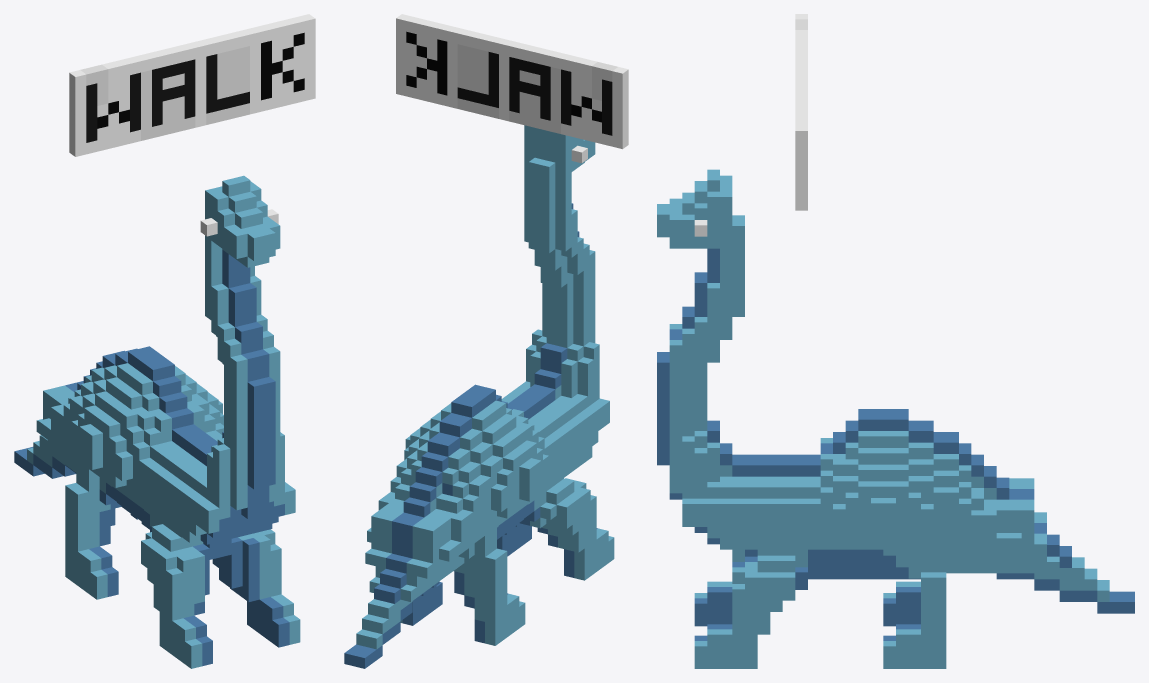
The model's file is dino-q2-c.obj.
The picture shows the model from 3 angles, left to right: view 1: azimuth 30°, elevation 25°; view 2: azimuth 150°, elevation 25°; view 3: azimuth 270°, elevation 25°; orthographic projection. The views are drawn at different scales.
Parts seen in each view (by area): view 1: Matrix_13; view 2: Matrix_13; view 3: Matrix_13.
Boxes of the visible parts, box(x1,y1,x2,y2) form: Matrix_13: box(14, 14, 315, 668); Matrix_13: box(344, 14, 628, 668); Matrix_13: box(657, 14, 1134, 668).
Bounding box in the file's own units: 22 × 50 × 38.
Materials: 1 (1 with a texture image).
